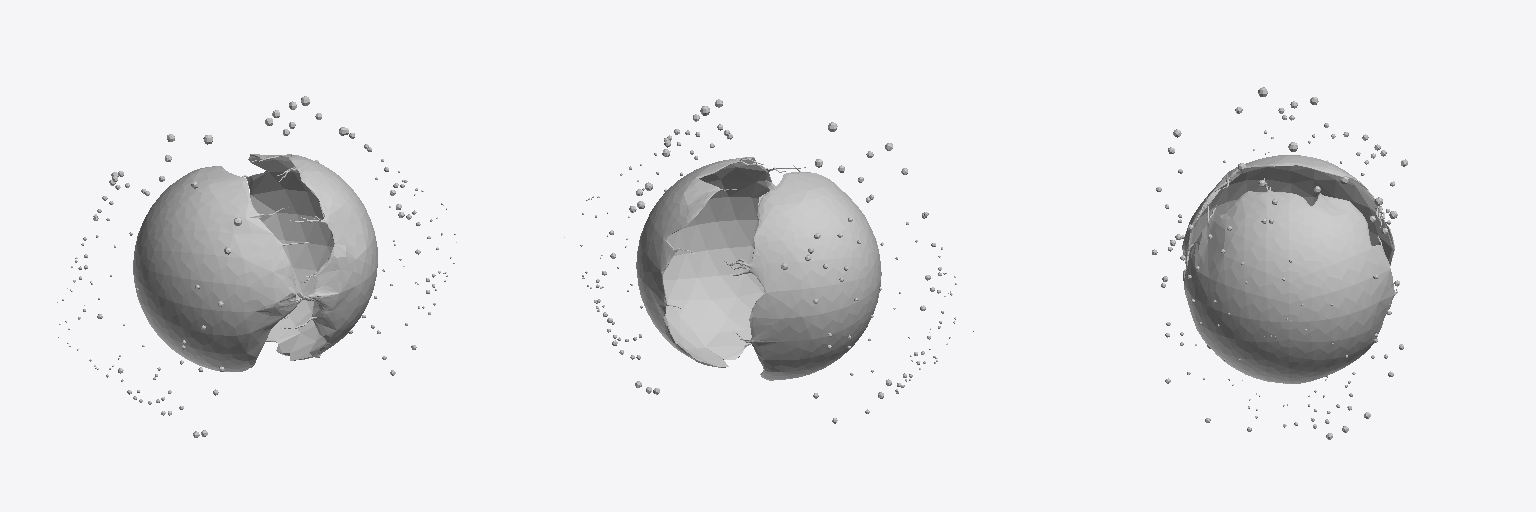
File: Polarization.obj
The picture shows the model from 3 angles: view 1: azimuth 30°, elevation 25°; view 2: azimuth 150°, elevation 25°; view 3: azimuth 270°, elevation 25°; orthographic projection.
Visible parts, largest first — view 1: Object039; view 2: Object039; view 3: Object039.
Part boxes in pixels (bbox=[...]): Object039: bbox=[57, 96, 456, 437]; Object039: bbox=[564, 99, 973, 423]; Object039: bbox=[1152, 87, 1407, 439].
Bounding box in the file's own units: 1030 × 688 × 566.